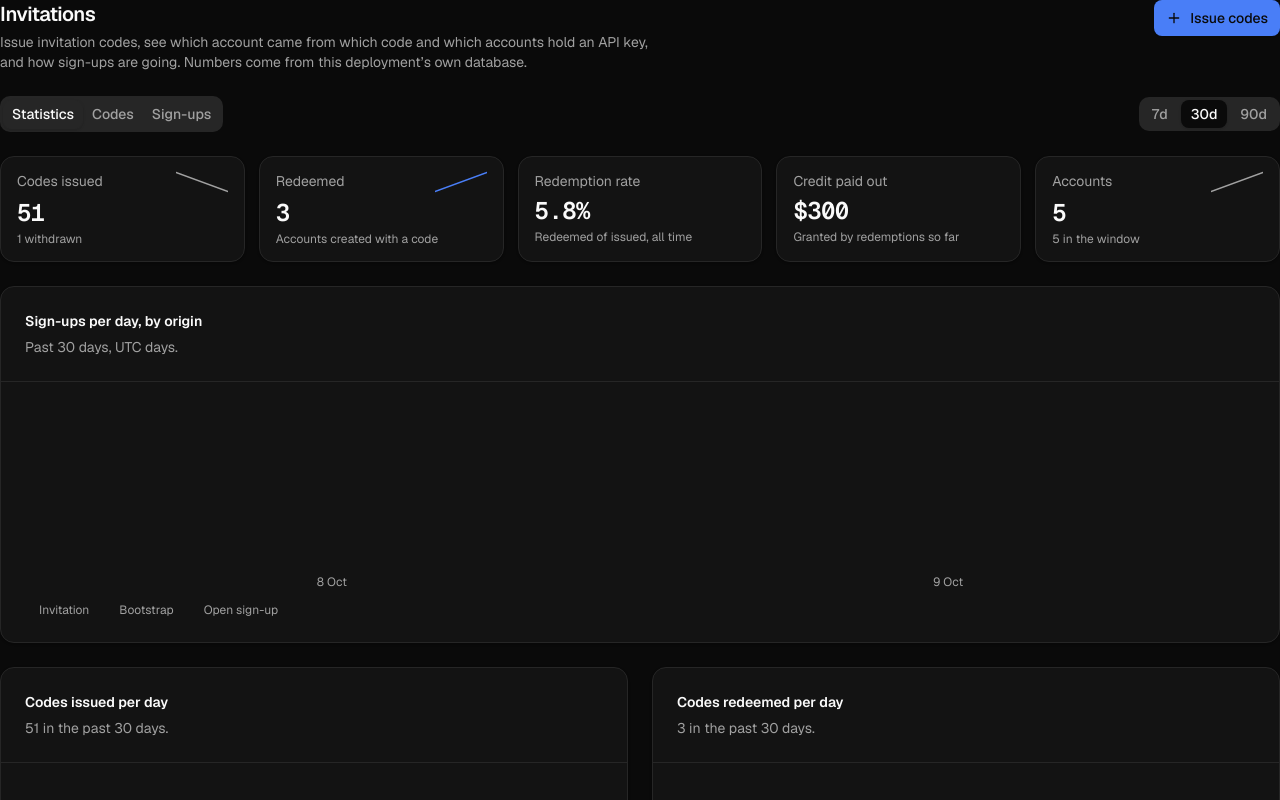
InvitationsScreen › marks a redemption carried over by an import, linked or not
What coordinates should you click on to do the following:
click the tab "Codes"
I would click on:
 (113, 114)
Its box is [83,100,143,128].
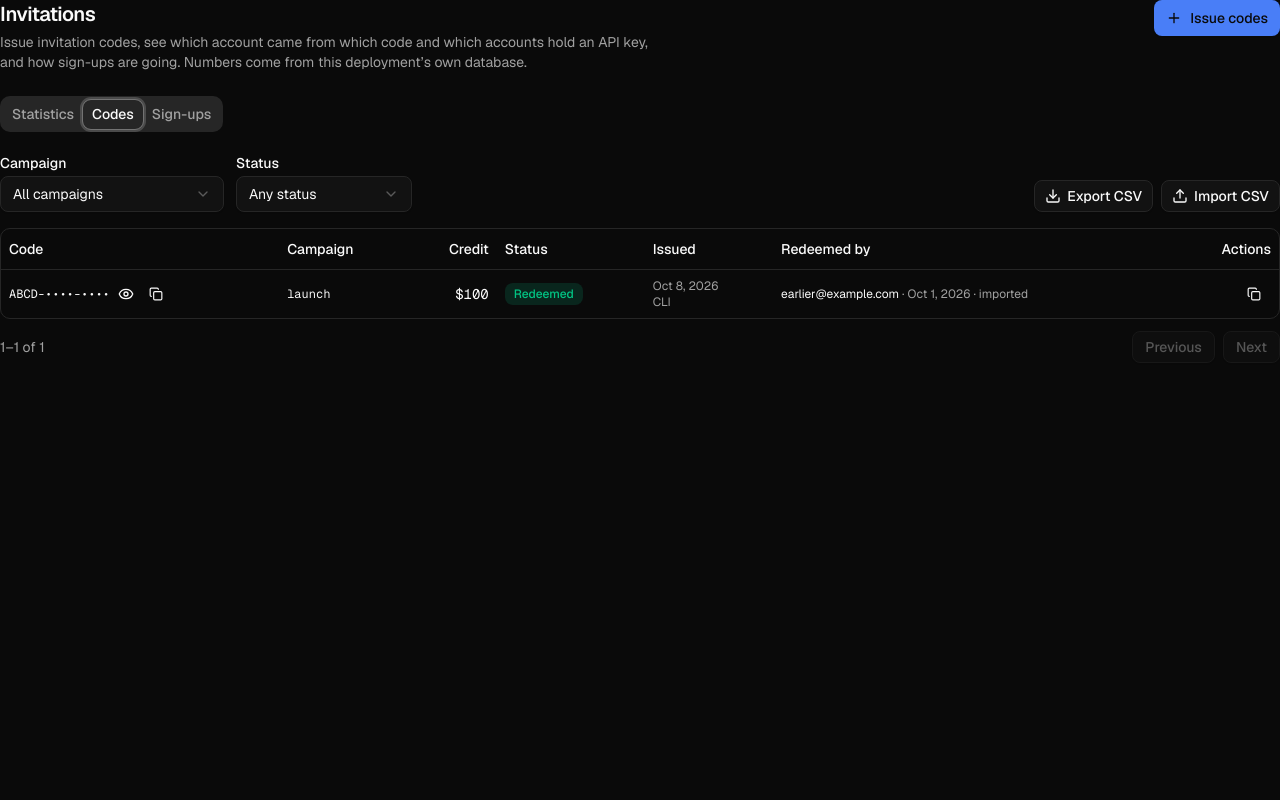
Expected: the row with test id "invite-code-row-code-1" shows "earlier@example.com", [781,286,899,302]
Expected: the row with test id "invite-code-row-code-1" shows "imported", [970,286,1028,302]
Expected: the element titled "no account with this address here" is shown, [781,286,1028,302]
